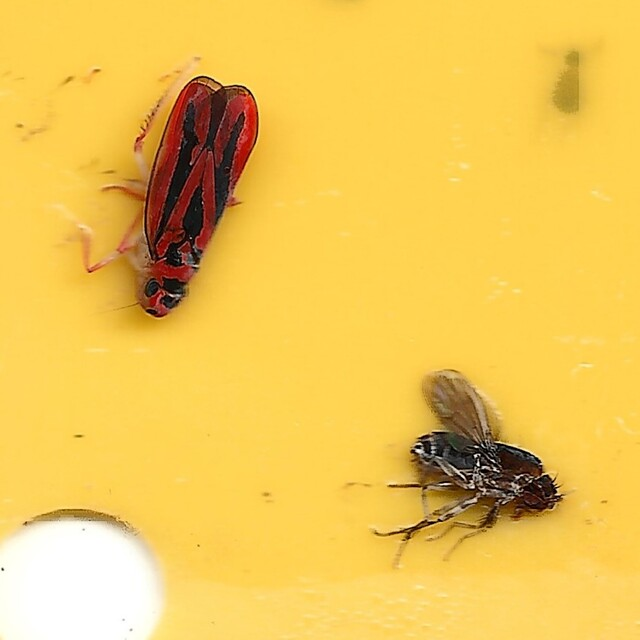Brachycera: (373, 367, 564, 569)
Hemiptera: (76, 71, 262, 322)
